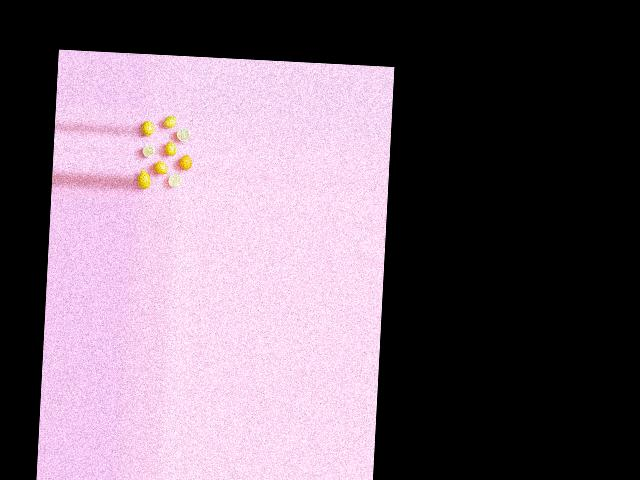lemon: (138, 119, 152, 139)
